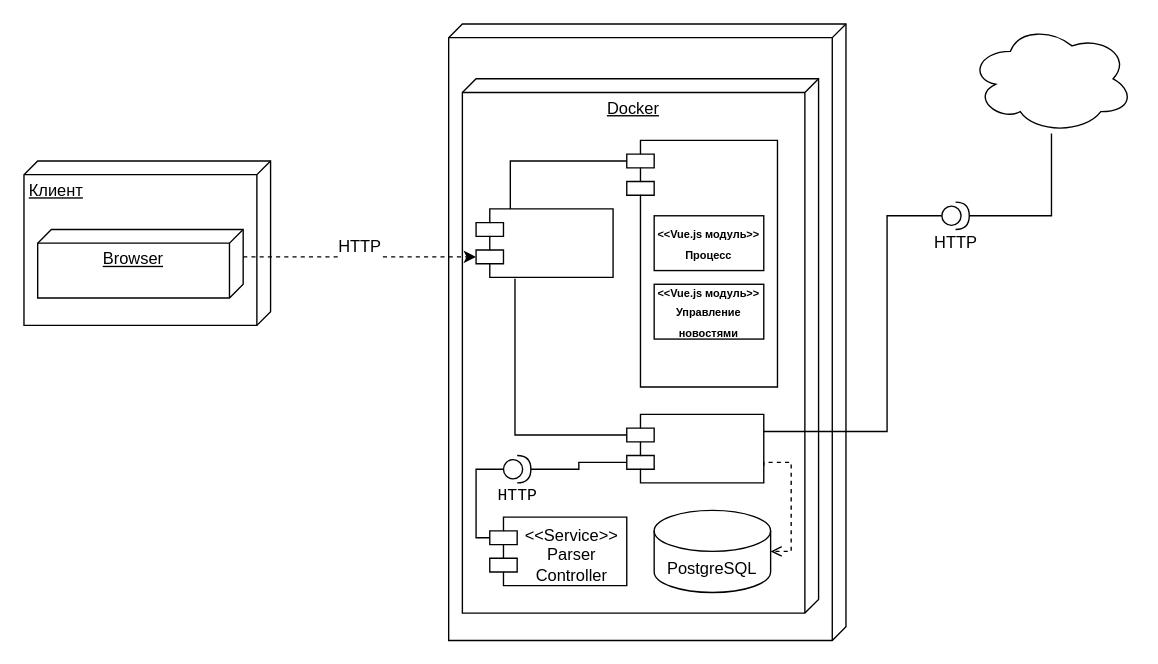
Some shapes in this 1158 by 664 pixel diagram are drawn without their labels. The shapes that lost their labels are listed below. From the top down, each one's box as (x1, y1, x2, y2) in pixels, then its label:
(968, 23, 1134, 134): AI (ChatGPT)
(475, 208, 613, 277): Nginx
(625, 139, 777, 387): Front-end Vue.js
(447, 23, 846, 640): Сервер
(625, 413, 764, 483): Back-end Flask
